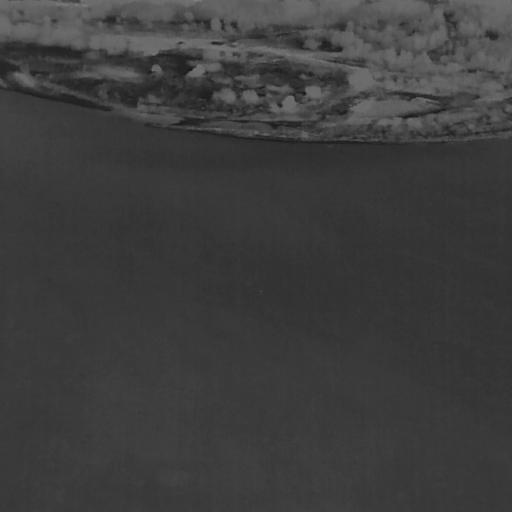uav: (257, 288, 266, 296)
